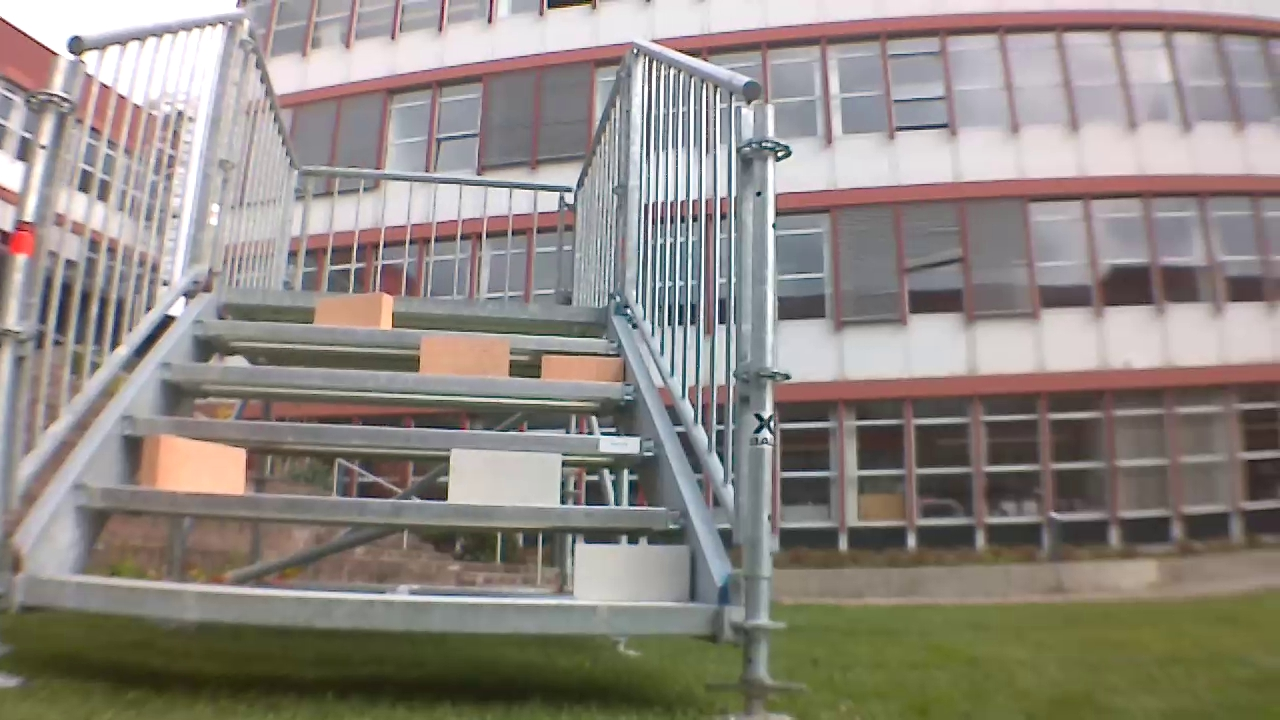brick: (572, 543, 690, 601), (139, 435, 244, 494), (450, 451, 559, 505), (420, 336, 508, 374), (315, 293, 392, 328), (542, 356, 621, 383)
edge: (24, 572, 718, 635), (77, 483, 683, 529), (121, 415, 661, 456), (165, 361, 636, 399), (191, 320, 619, 353), (223, 287, 605, 322)
stairs: (3, 8, 796, 718)
steps: (20, 282, 721, 640)
